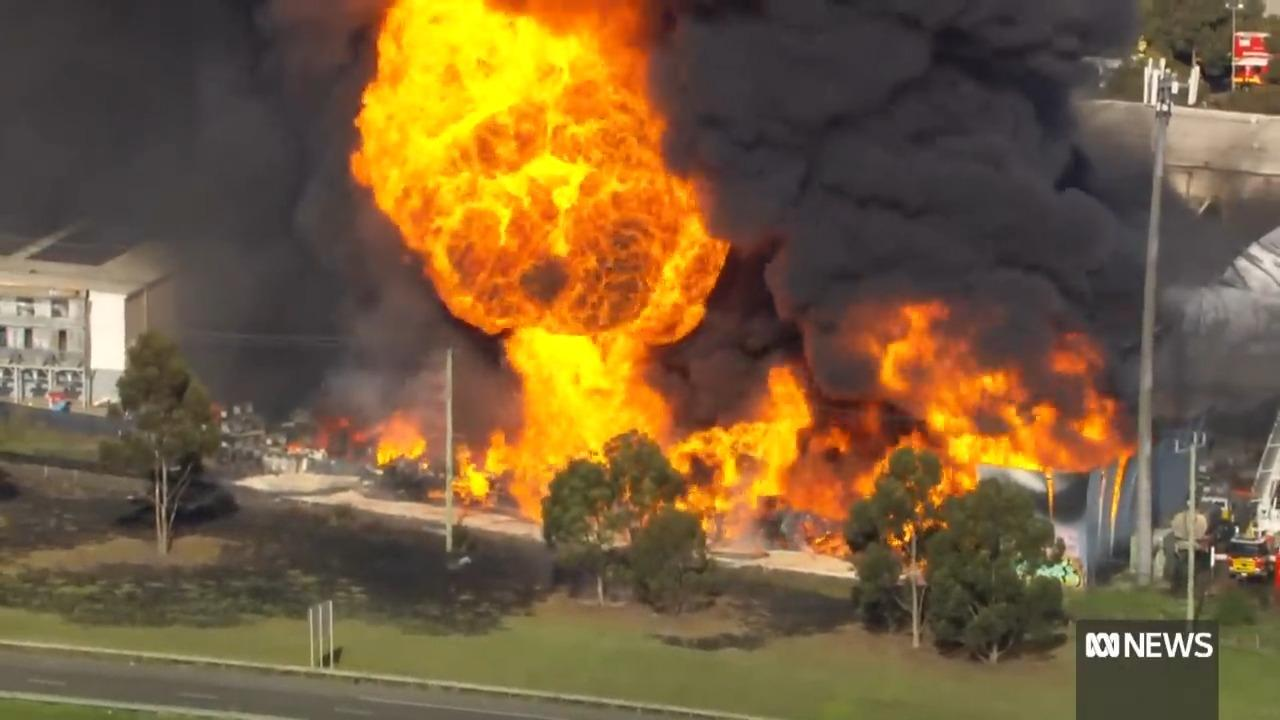fire: (353, 74, 1136, 573), (364, 3, 679, 77)
